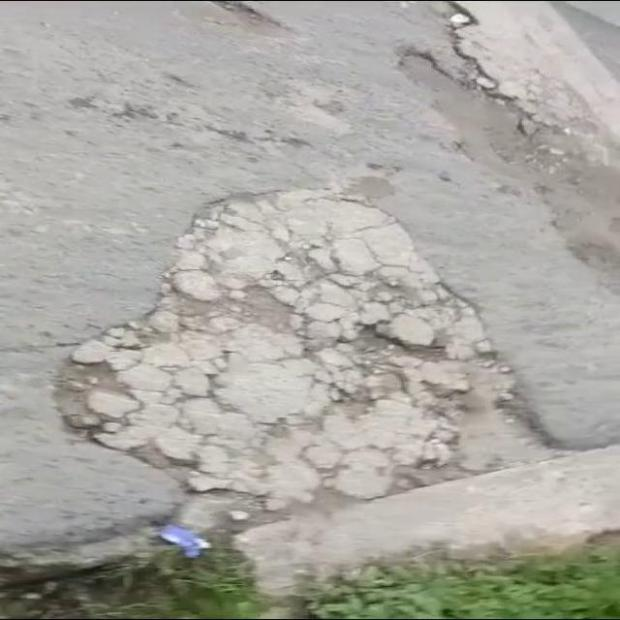lubang: (63, 190, 543, 511), (384, 0, 601, 287), (214, 0, 301, 41)
